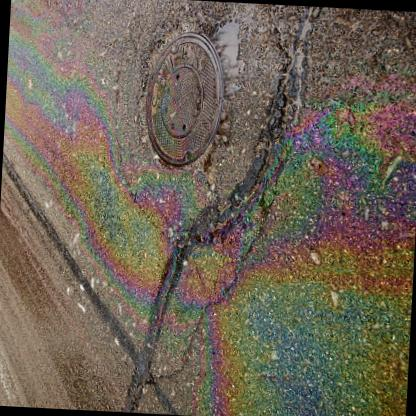manholes: (128, 20, 240, 178)
